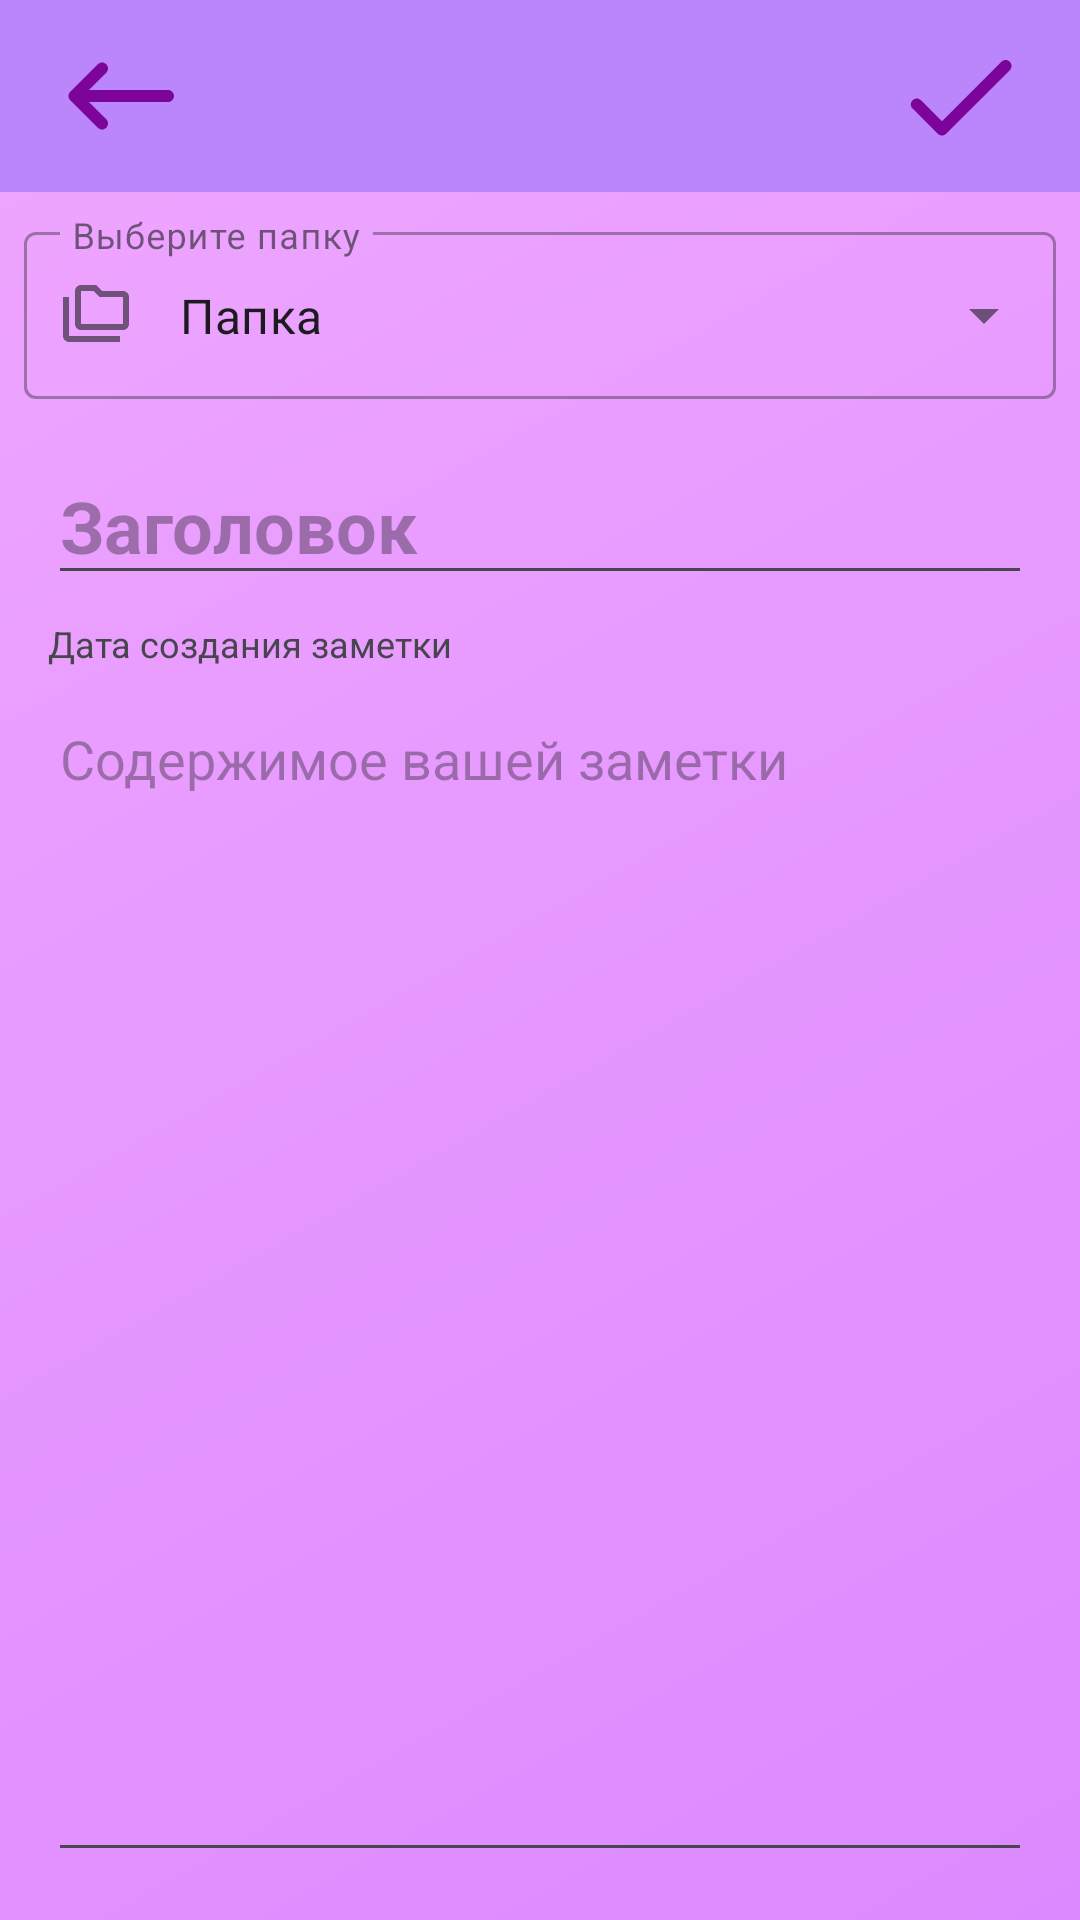

Where to tap for icons on this 1080*1920 app screen, as (x=x, y=y):
Кнопка Готово: (x=961, y=98)
Кнопка назад: (x=121, y=96)
